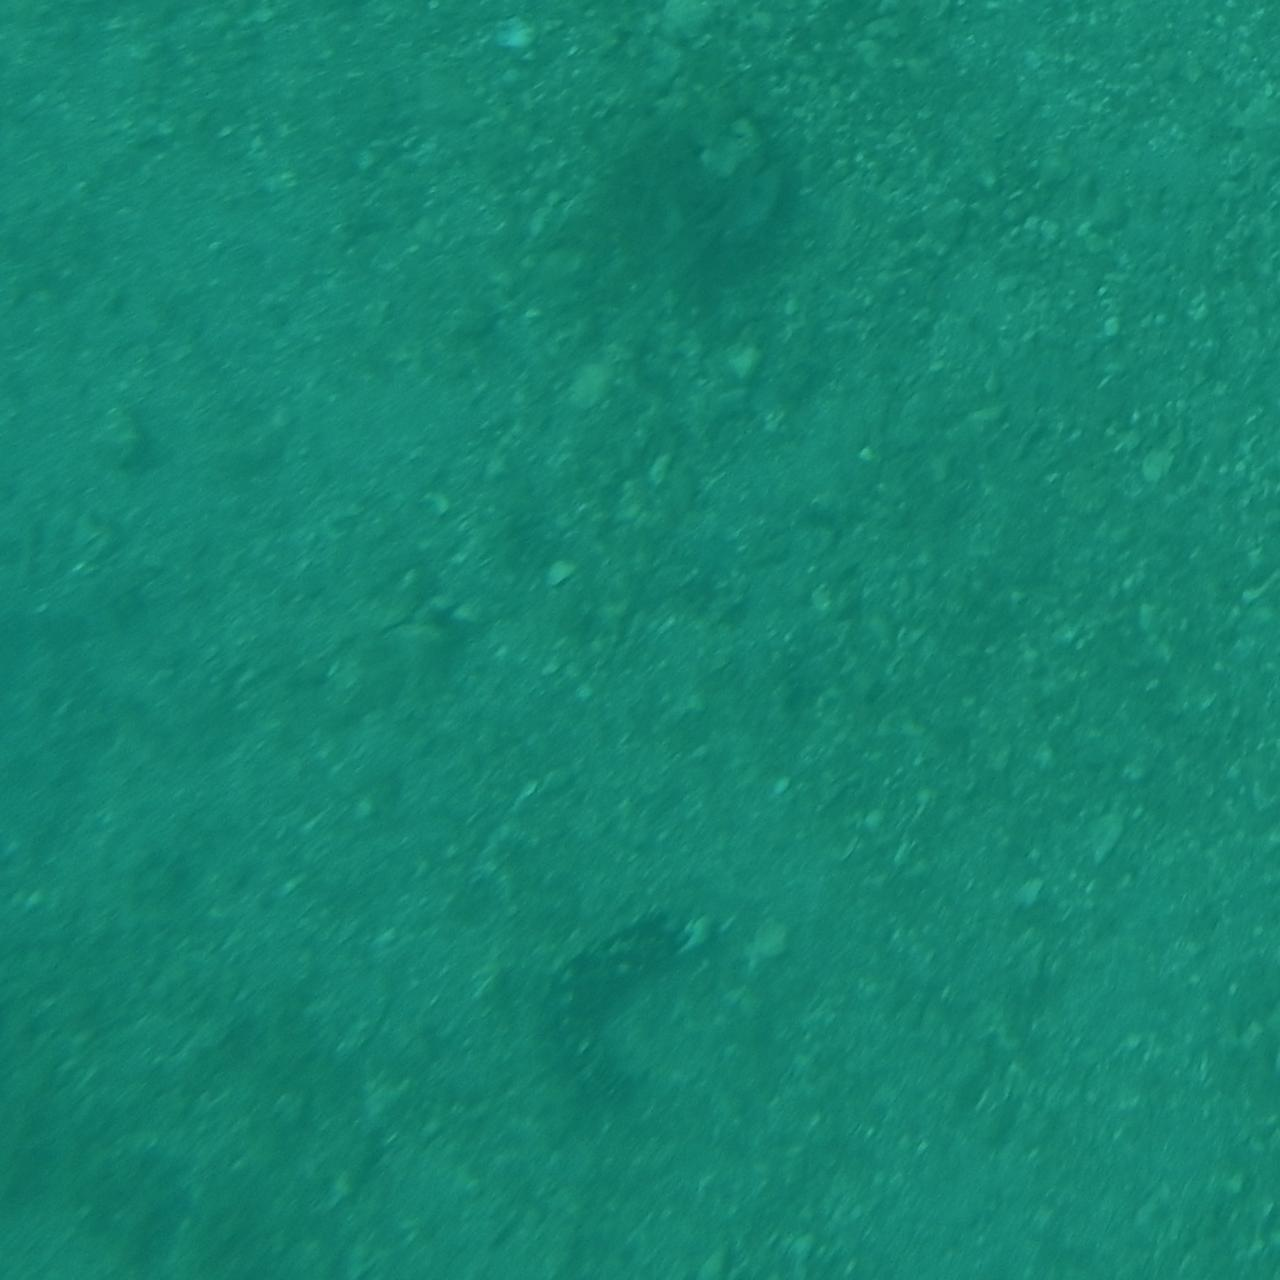Holothuria tubulosa: (537, 881, 743, 1124)
